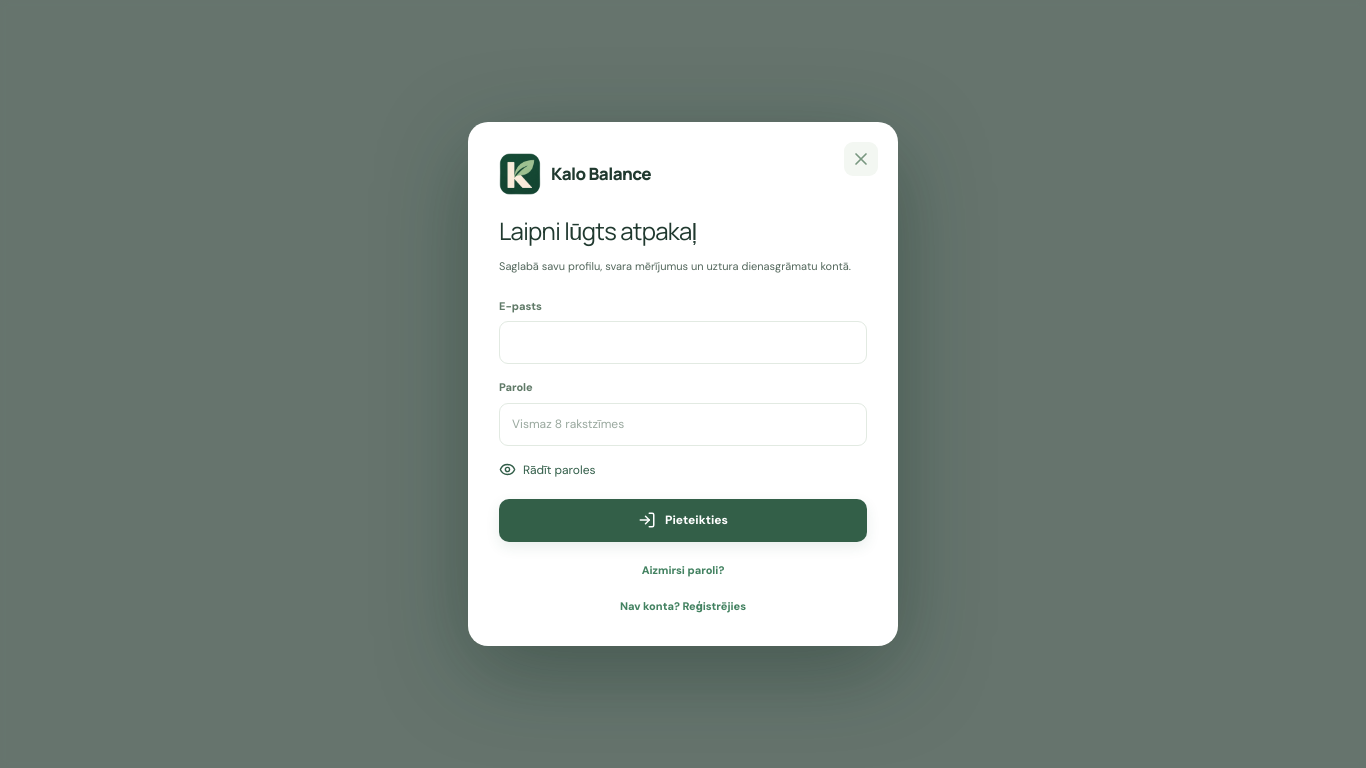
Test: offers forgot password from login and shows the generic acknowledgment
The width and height of the screenshot is (1366, 768).
Click the button "Aizmirsi paroli?".
click(683, 570)  # box [642, 562, 724, 578]
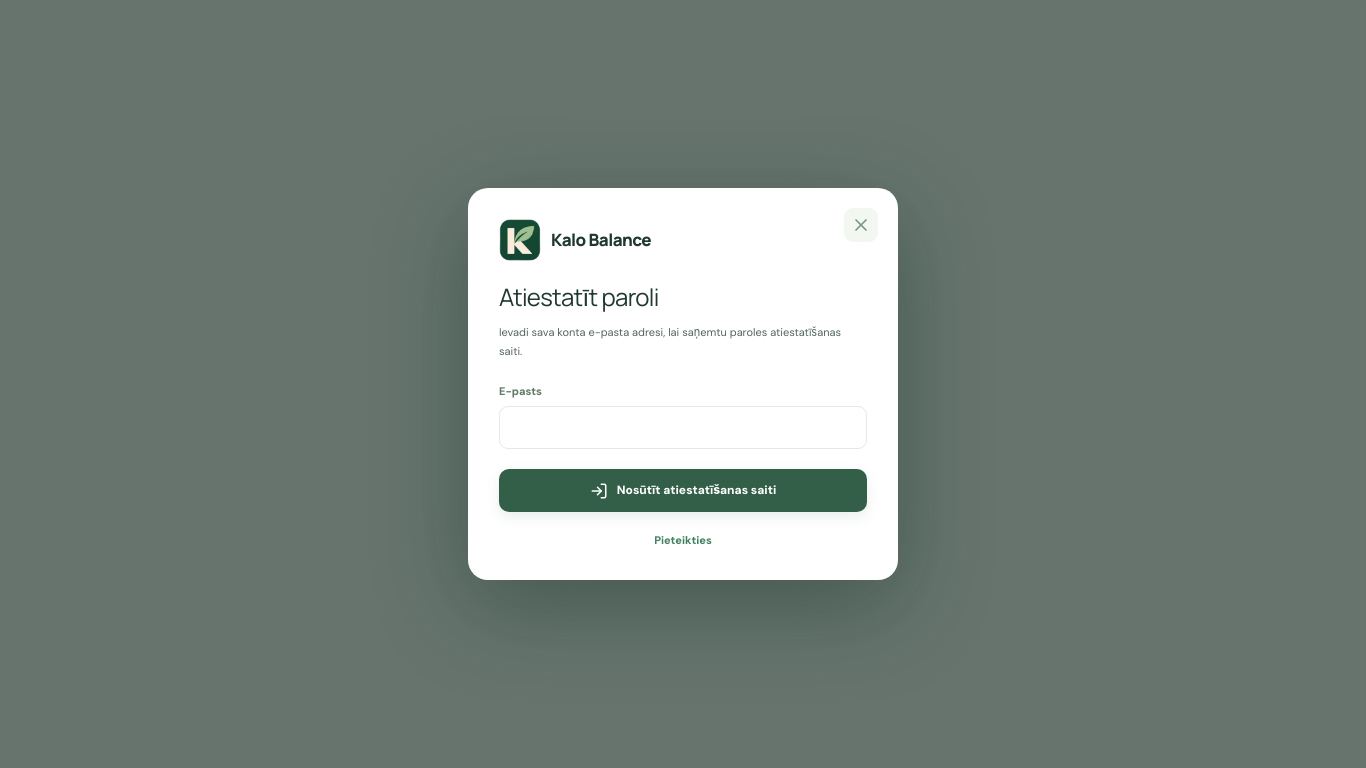
expect the dialog "Atiestatīt paroli" is shown: met, box [468, 188, 898, 580]
Type "person@example.test" into the field labelled "E-pasts".
click(683, 428); type("person@example.test")  # box [499, 406, 867, 449]
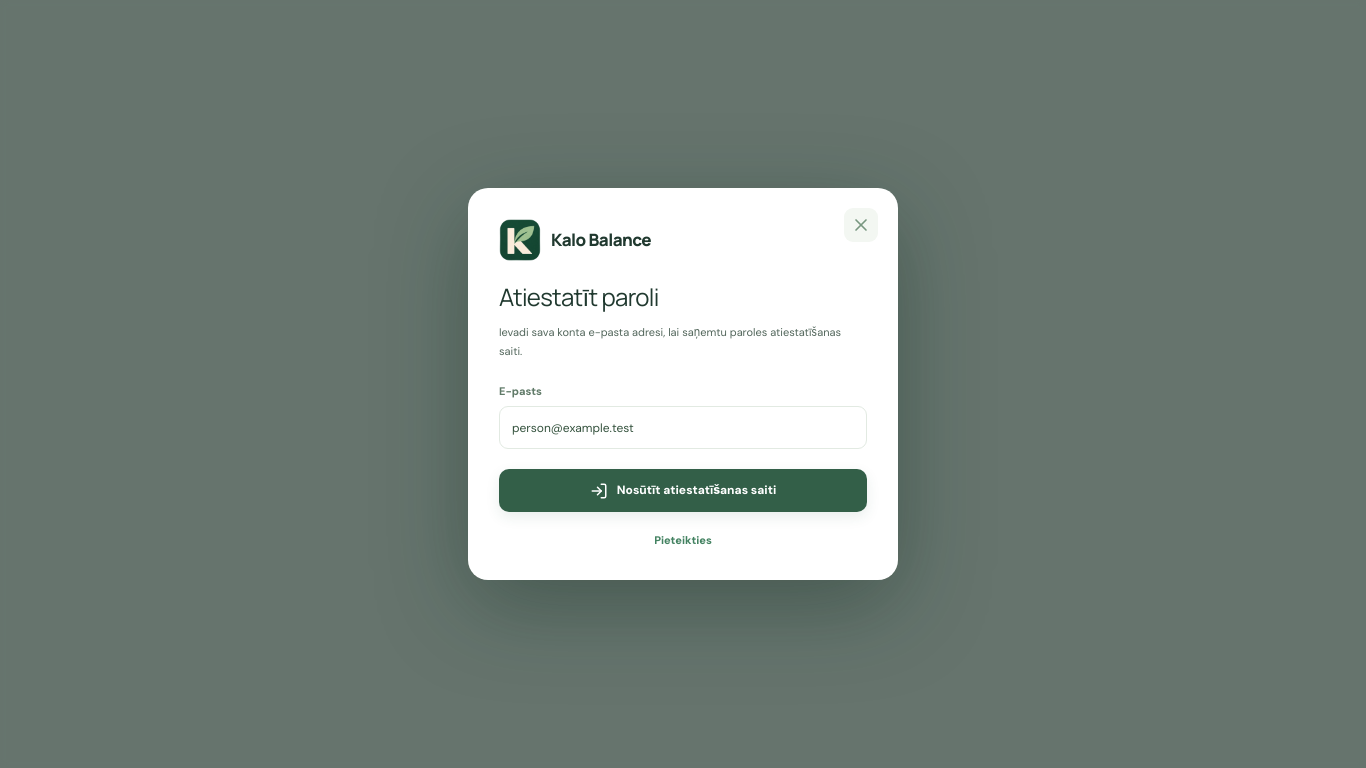
Click the button "Nosūtīt atiestatīšanas saiti".
click(683, 491)  # box [499, 469, 867, 512]
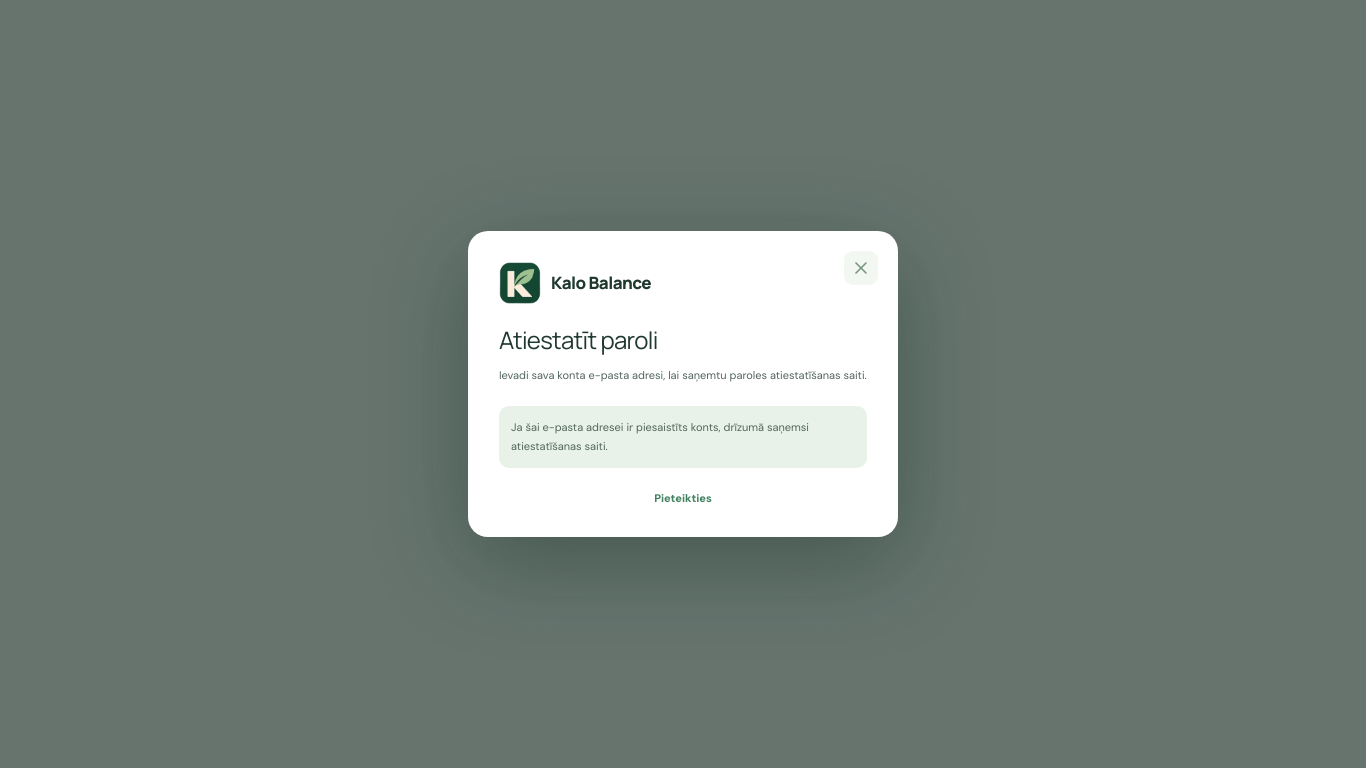
expect the message shows "Ja šai e-pasta adresei ir piesaistīts konts, drīzumā saņemsi atiestatīšanas saiti.": met, box [511, 420, 809, 453]
